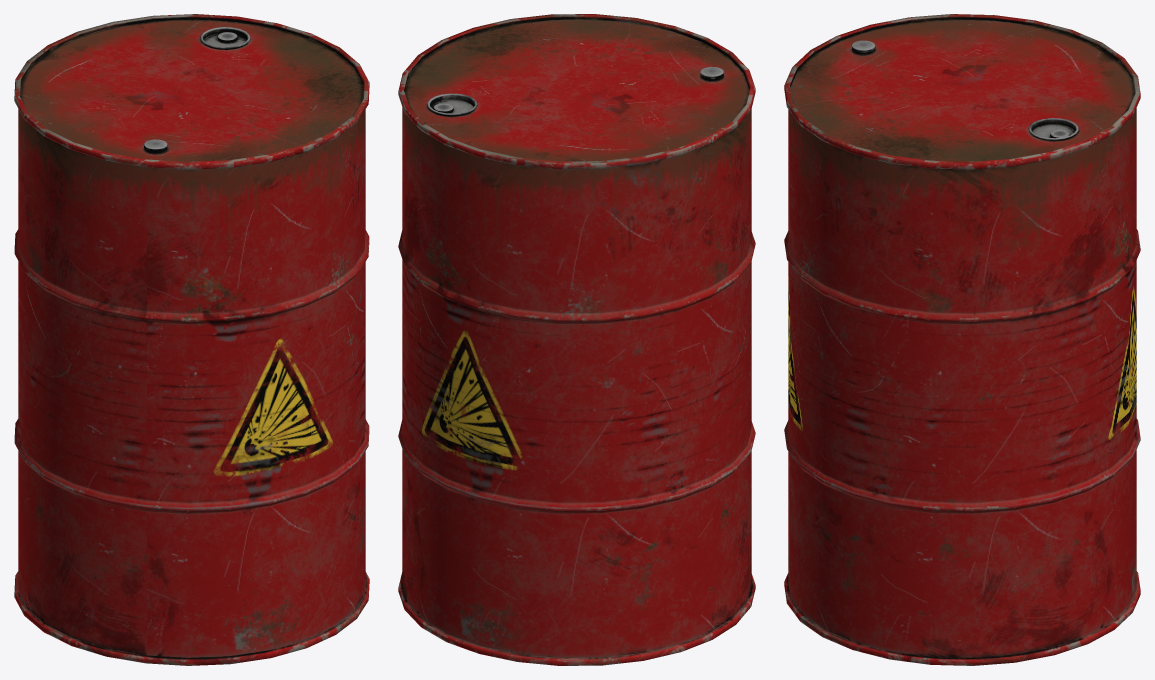
File: barrel.obj
3 views of the same model, side by side, from view 1: azimuth 30°, elevation 25°; view 2: azimuth 150°, elevation 25°; view 3: azimuth 270°, elevation 25° (orthographic).
Parts seen in each view (by area): view 1: Barrel_01; view 2: Barrel_01; view 3: Barrel_01.
Part boxes in pixels (left/top/right/bottom): Barrel_01: left=14, top=14, right=369, bottom=665; Barrel_01: left=398, top=14, right=755, bottom=665; Barrel_01: left=784, top=14, right=1140, bottom=665.
Size of the model in its own units: 0.563 by 0.88 by 0.563.
1 material, 1 textured.
